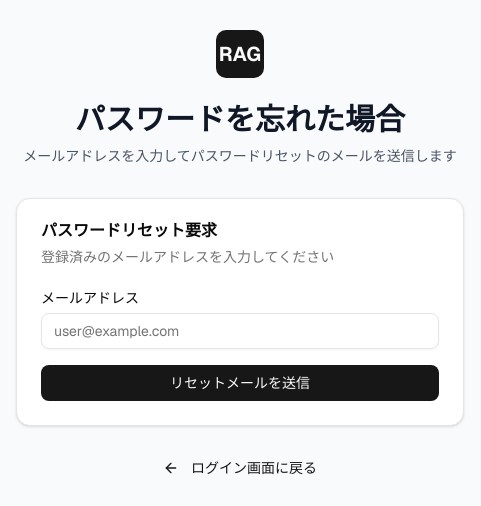
Test case: PasswordResetForm › 空のメールアドレス
The image size is (481, 506).
// メールアドレスを入力せずに送信ボタンをクリック
What coordinates should you click on to do the following:
click the button "リセットメールを送信"
I would click on:
 (240, 382)
Its box is [41,364,439,400].
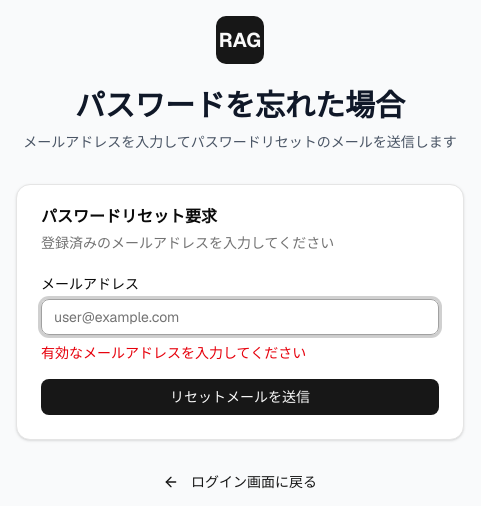
Now the text "有効なメールアドレスを入力してください" is shown, box [41,344,306,362]
